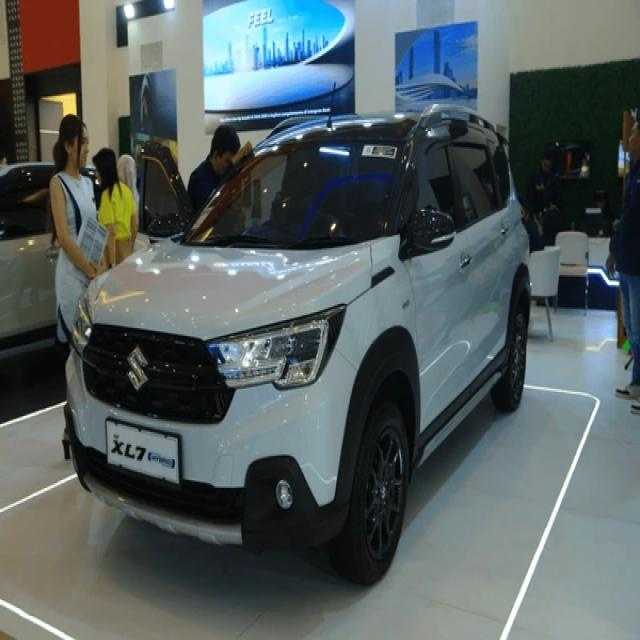suzuki: (124, 343, 151, 398)
